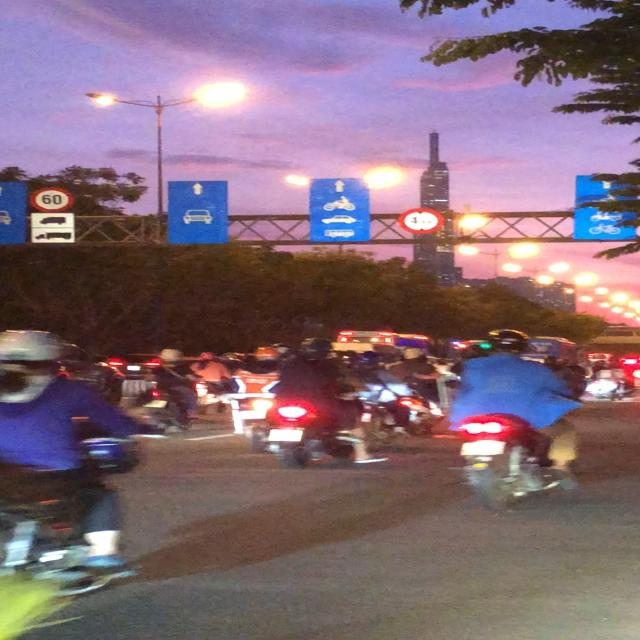Bien bao han che chieu cao: (390, 207, 448, 237)
Bien bao toc do toi da cho phep: (26, 185, 78, 212)
